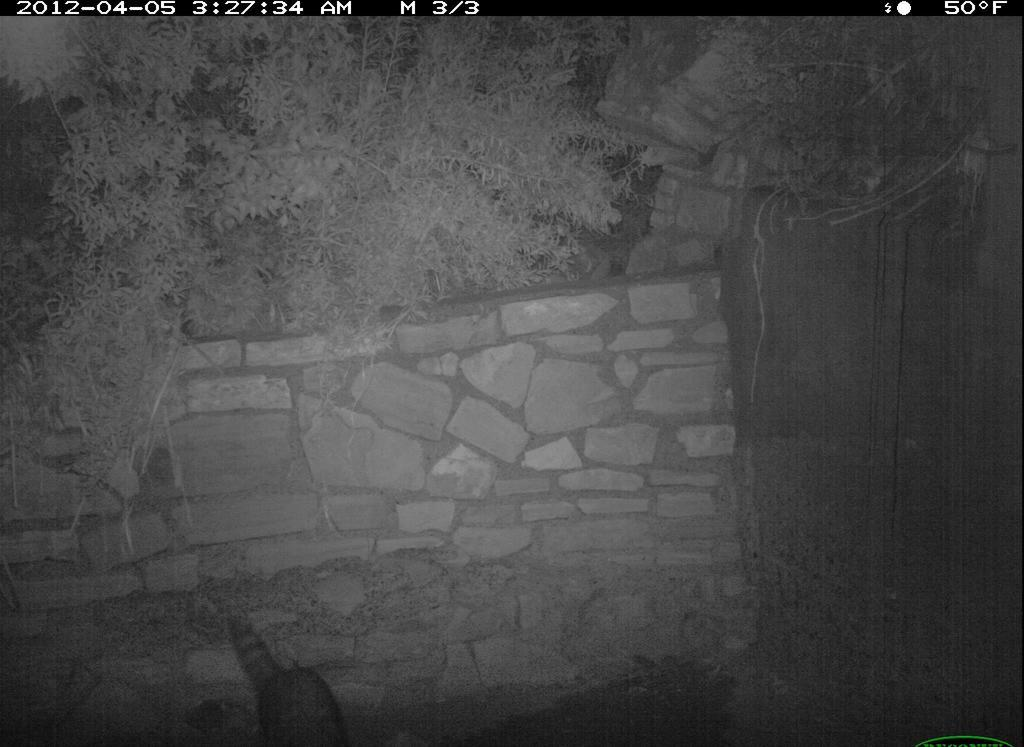raccoon: (226, 597, 359, 747)
